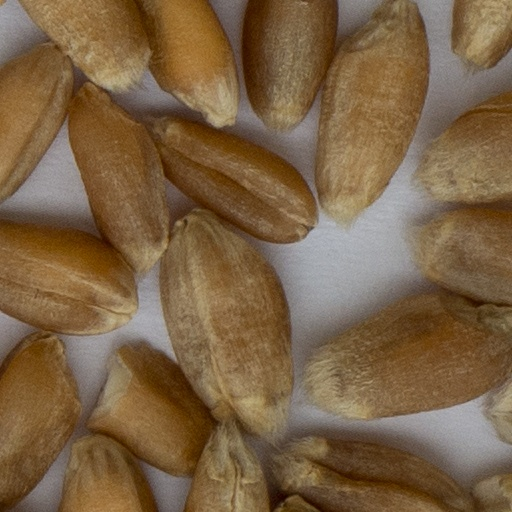Peel-poly: (475, 474, 511, 511)
Wheat-grain-damaged-poly: (87, 340, 214, 479)
